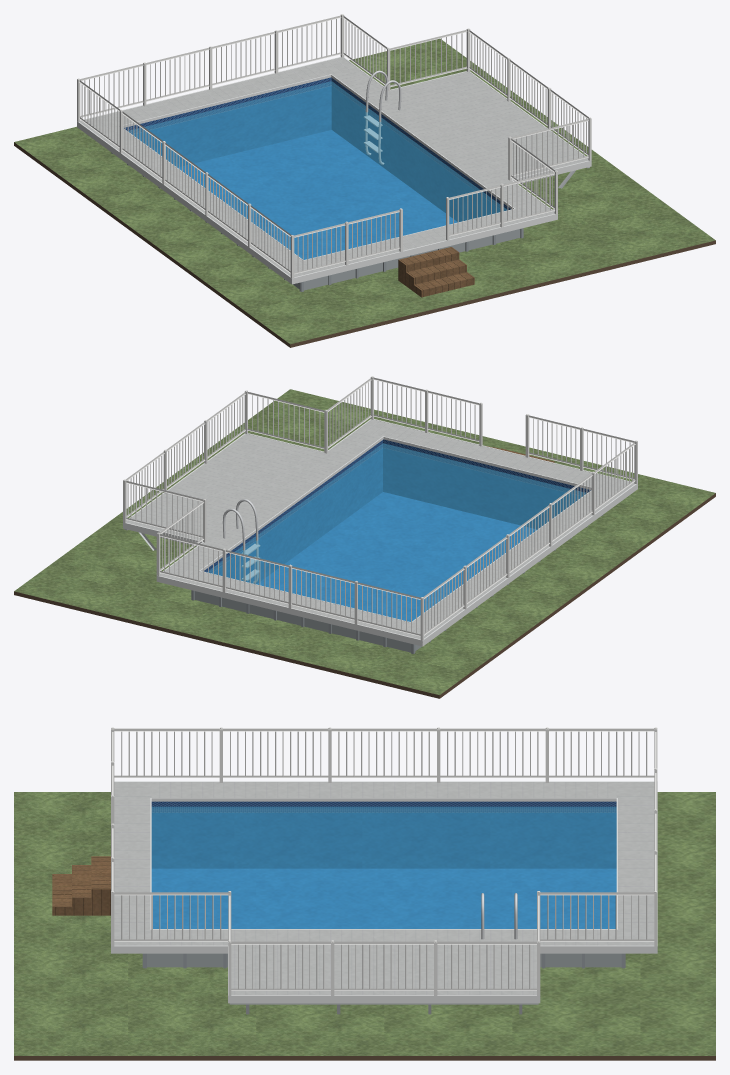
File: kayak-pool-16x24-gray-t-rec-fence.1dd188e6d3.glb
3 renders of one model, top to bottom at view 1: azimuth 30°, elevation 25°; view 2: azimuth 150°, elevation 25°; view 3: azimuth 270°, elevation 25°, orthographic. The views are drawn at different scales.
Visible parts, largest first — view 1: ground, water, deck, fence, liner_floor, liner_wall, fascia, soil, steps, wall, steel; view 2: ground, water, deck, fence, liner_floor, liner_wall, fascia, soil, wall, steel; view 3: ground, water, deck, liner_wall, liner_floor, fence, fascia, soil, steps, wall, stud.
Boxes of the visible parts, x1,y1,x2,y2 form: ground: (14,38,715,344); water: (128,81,506,259); deck: (80,57,588,277); fence: (77,14,591,278); liner_floor: (178,130,457,259); liner_wall: (123,77,511,221); fascia: (77,57,591,284); soil: (14,142,715,347); steps: (398,247,474,297); wall: (293,229,520,290); steel: (364,70,401,164); ground: (14,389,715,694); water: (207,443,585,621); deck: (126,419,634,642); fence: (123,376,637,646); liner_floor: (257,492,536,621); liner_wall: (204,439,591,584); fascia: (123,419,637,646); soil: (14,493,715,698); wall: (194,591,421,652); steel: (222,499,260,583); ground: (14,792,715,1055); water: (151,806,616,928); deck: (114,782,654,994); liner_wall: (151,801,616,868); liner_floor: (151,868,616,928); fence: (111,727,657,995); fascia: (111,781,657,1003); soil: (14,1056,715,1060); steps: (52,856,110,915); wall: (147,953,621,967); stud: (229,1003,538,1014).
Size of the model in its own units: 9.75 by 2.15 by 10.97.
Materials: 13 (5 with a texture image).
